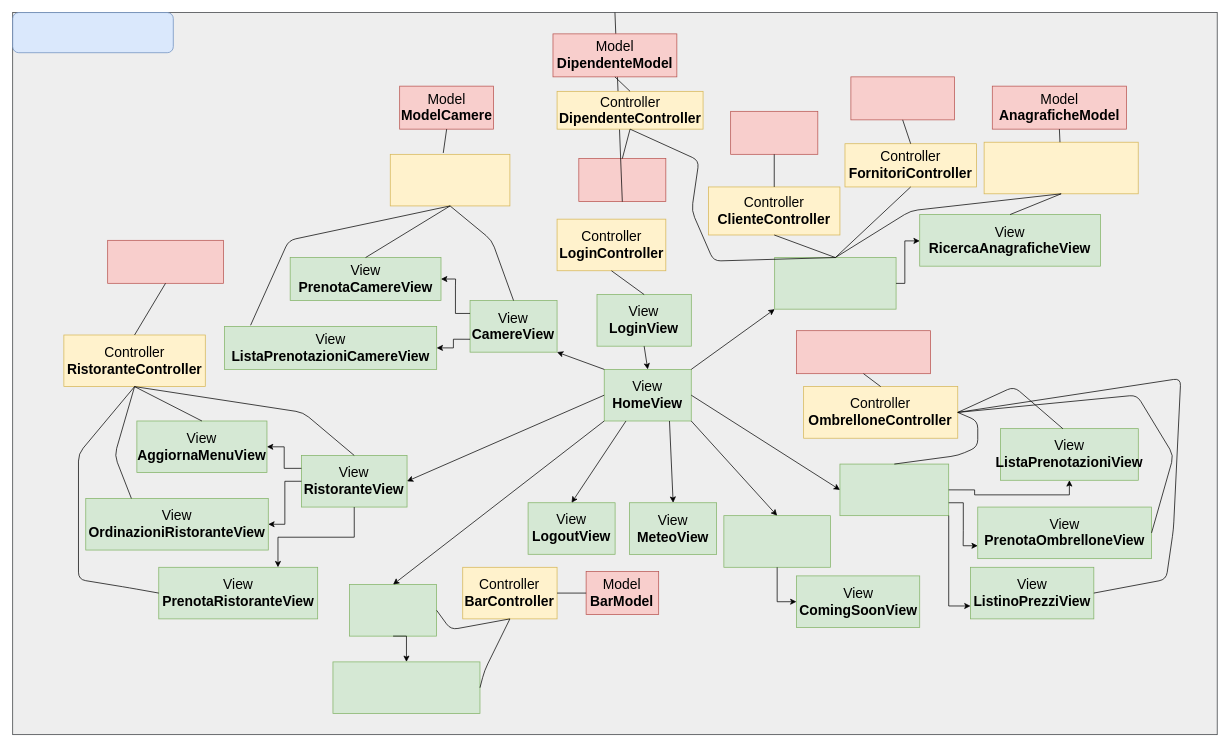
Image size: 1230x748. Some labels were removed from this diagram. Here are the shapes that lost their labels. From the top down, the centre of each, then its label:
[92,32]: Architettura
[902,98]: Model FornitoriModel
[774,132]: Model ClienteModel
[450,180]: Controller CamereController
[622,180]: Model LoginModel
[1060,167]: Controller AnagraficheController
[165,261]: Model RistoranteModel
[835,283]: View AnagraficheView
[863,352]: Model OmbrelloneModel
[894,489]: View OmbrelloneView
[776,541]: View MagazzinoView
[393,610]: View BarView
[406,687]: View AggiornaListinoView
